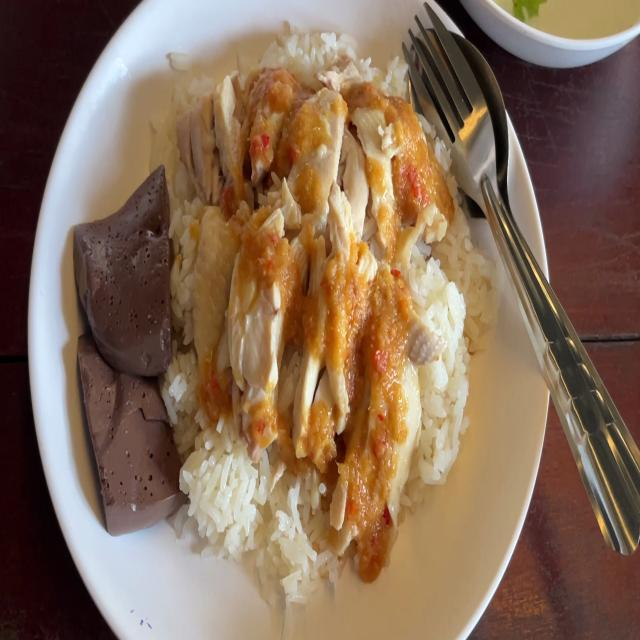boiled_chicken: (188, 73, 426, 460)
boiled_chicken_blood_jelly: (68, 328, 194, 536), (76, 166, 170, 370)
chicken_rice: (85, 19, 492, 583)
